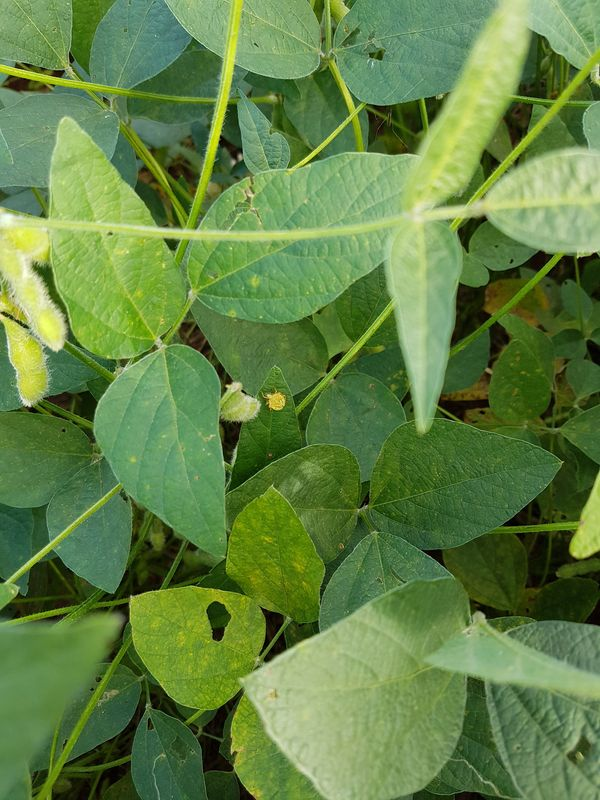Euschistus_heros_ninfa: (256, 384, 291, 416)
